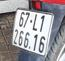1: (32, 32, 40, 52), (39, 13, 47, 33)
2: (13, 28, 20, 45)
6: (38, 34, 47, 52), (23, 31, 31, 49), (18, 11, 26, 28), (17, 30, 25, 47)
7: (22, 12, 31, 30)
L: (31, 13, 41, 32)
